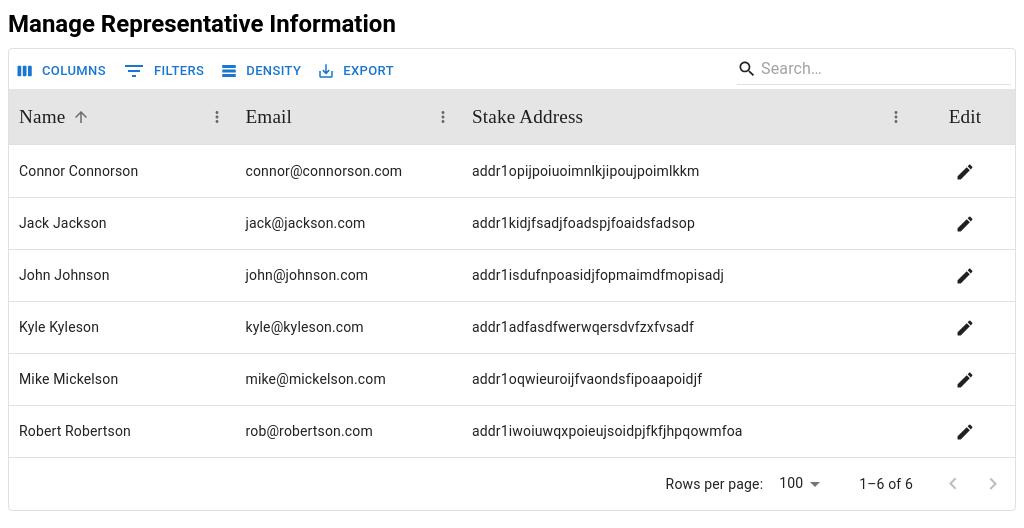
it: Successfully alerts when they try editing active voter while voting
The image size is (1024, 528).
Click the menu item with test id "edit-representative-info-1" at (965, 276), box [950,260,980,290]
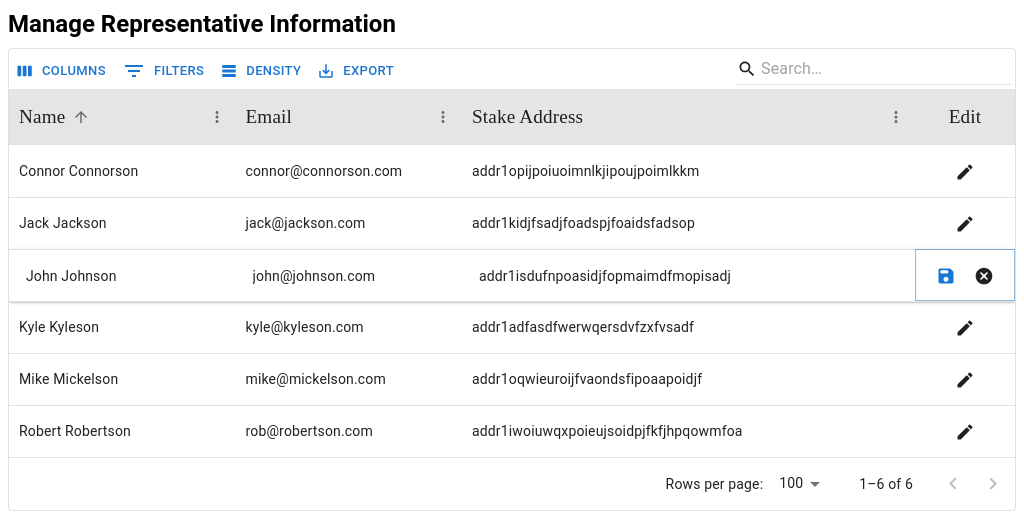
Click the menu item with test id "save-representative-info-1" at (946, 276), box [931,260,961,290]
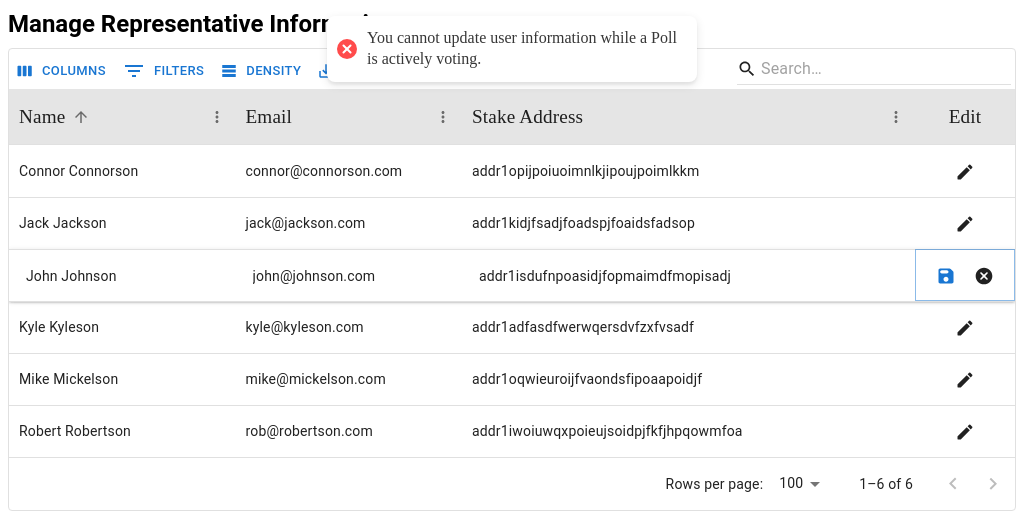
expect the text "You cannot update user information while a Poll is actively voting." is shown: met, box [367,28,677,70]
